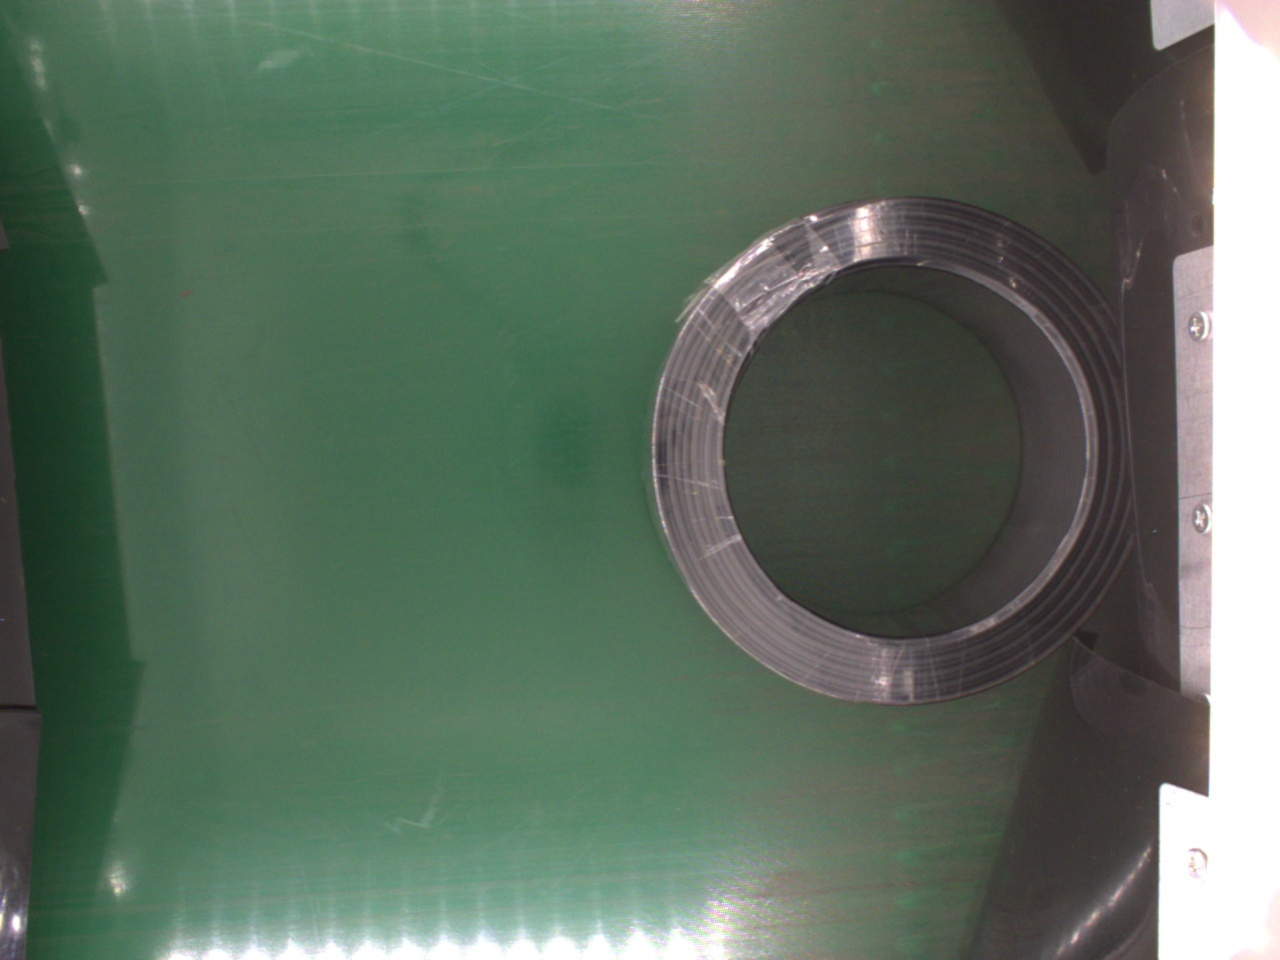black: (651, 196, 1122, 708)
